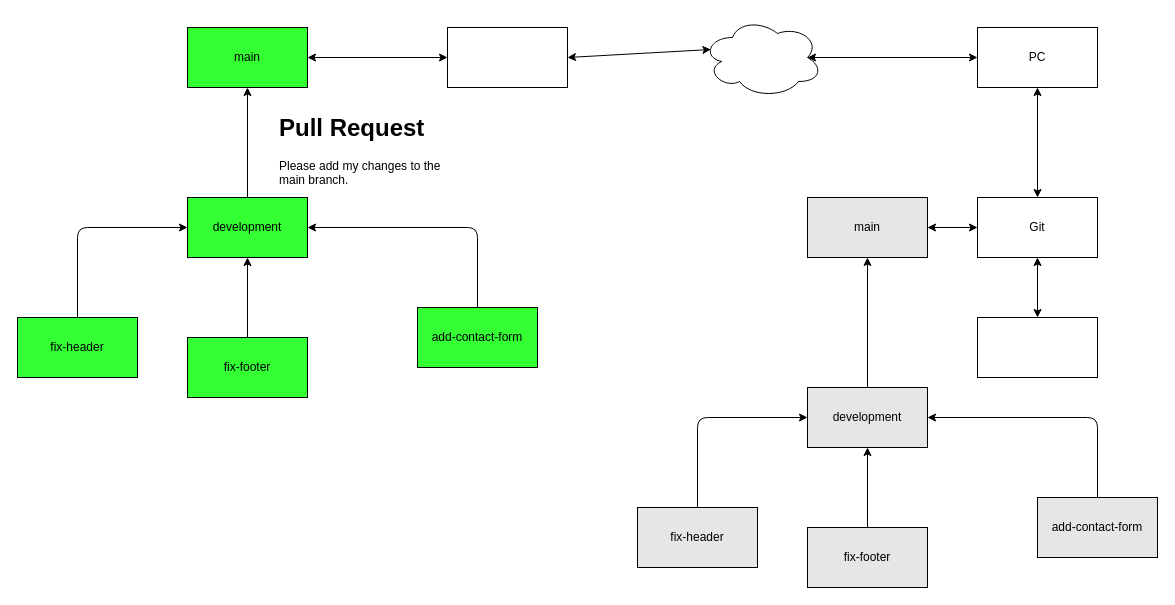
Some shapes in this 1175 by 605 pixel diagram are drawn without their labels. The box of each missing label's shape, as (x1, y1, x2, y2) in pixels:
Github: (446, 26, 568, 88)
Internet: (702, 16, 822, 98)
Source Code: (976, 316, 1098, 378)
